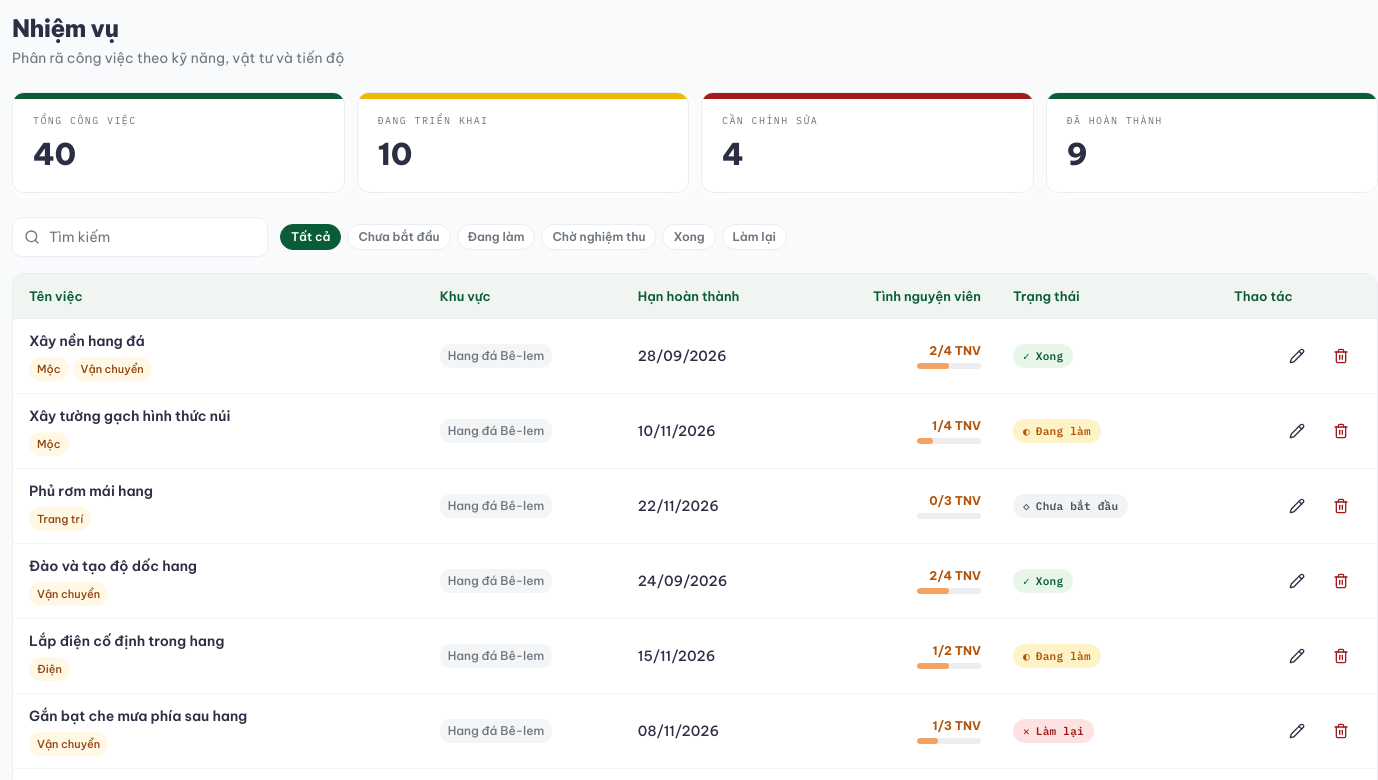
Test case: chip "Làm lại" lọc đúng việc REVISE
The width and height of the screenshot is (1378, 780).
Expected: the text "Xây nền hang đá" is shown, [29,332,145,350]
Step 1. Click the button "Làm lại" → coordinates (754, 237), box [722,224,787,250]
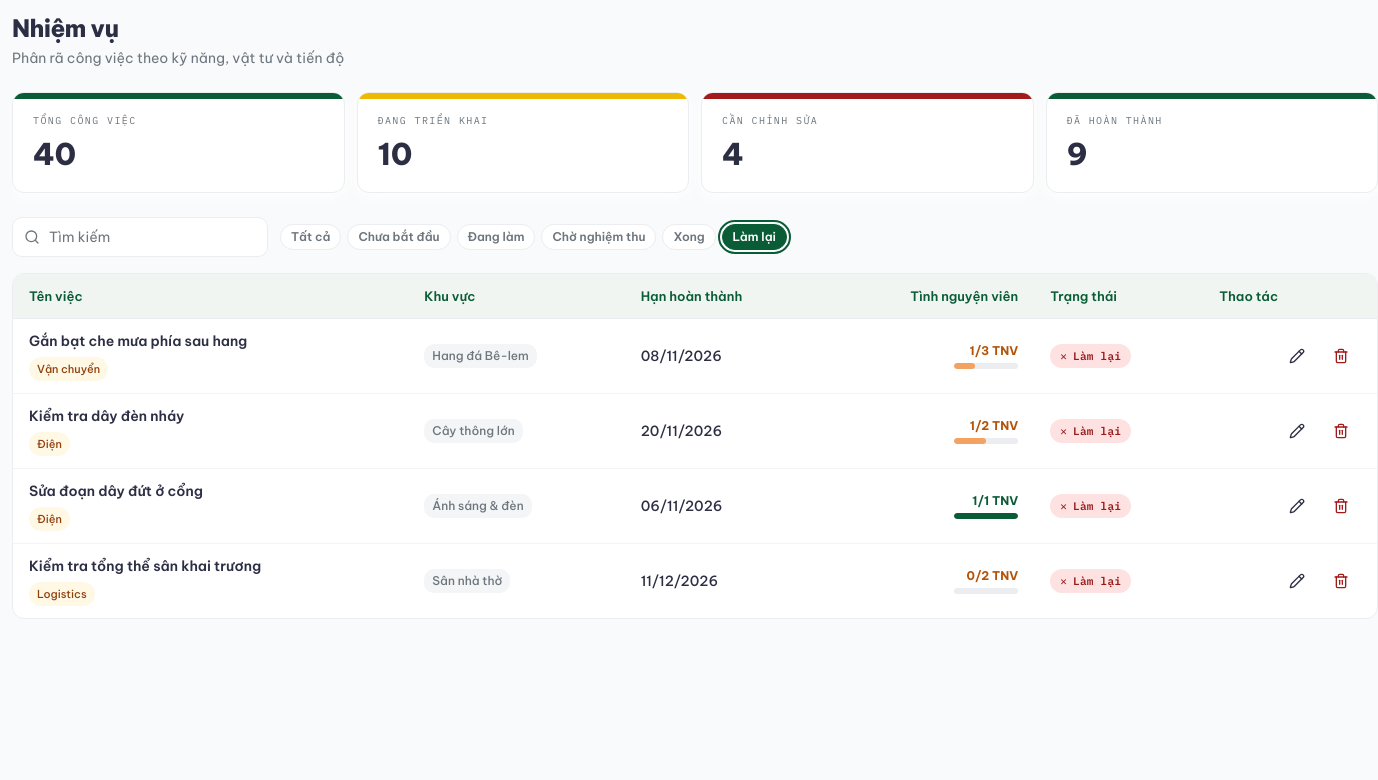
Expected: the text "Kiểm tra dây đèn nháy" is shown, [29,407,184,425]
Expected: the text "Xây nền hang đá" is gone
